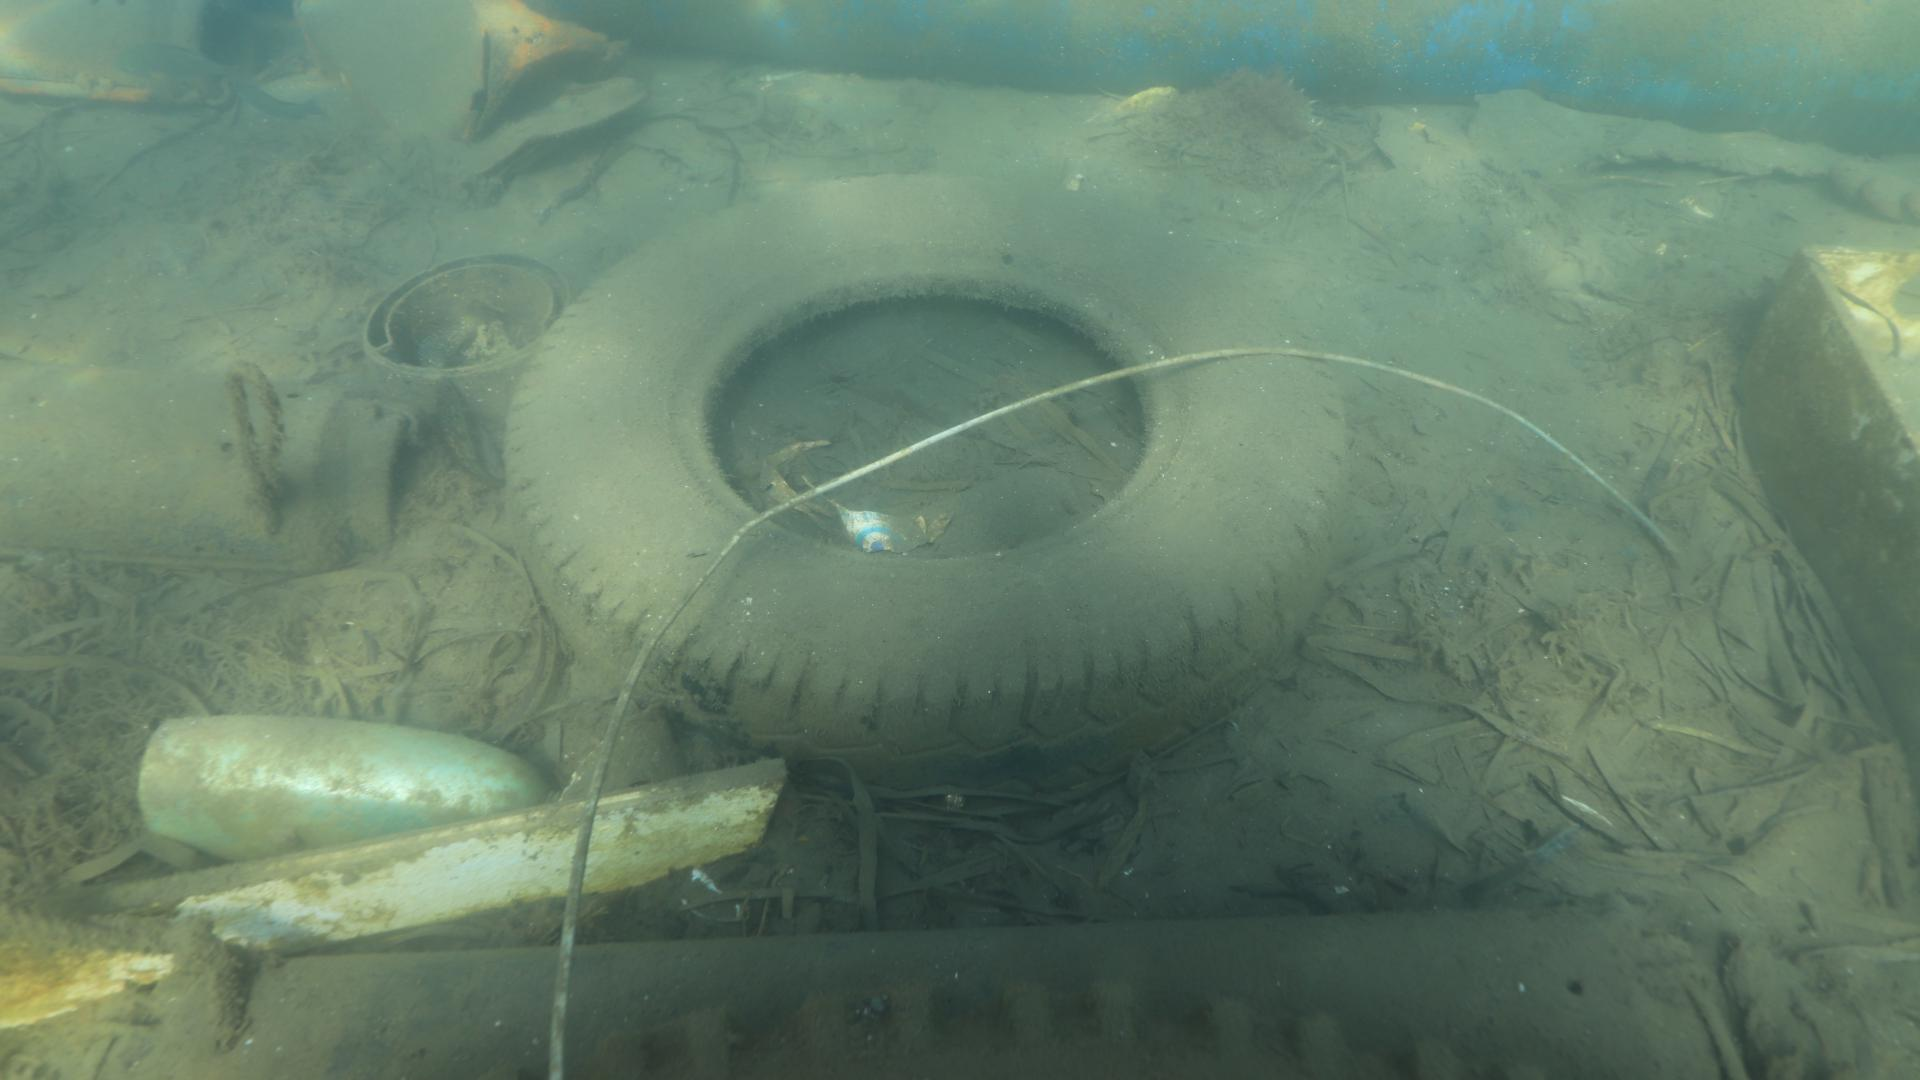bundle of ropes: (222, 357, 287, 535)
eel fish trap: (0, 367, 407, 574)
tire: (501, 170, 1352, 795)
